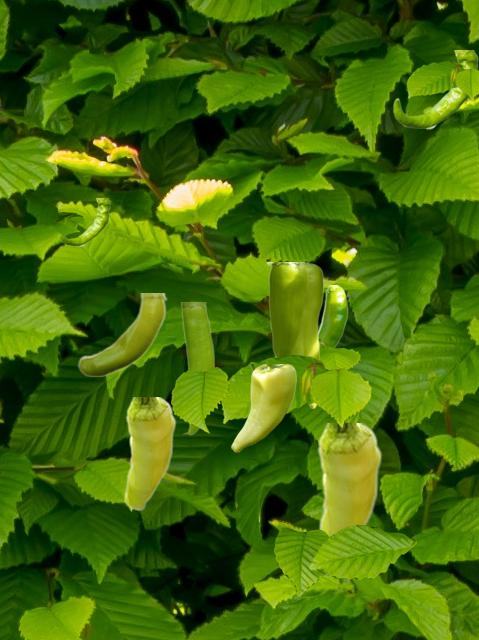green_chili: (266, 262, 322, 407), (315, 423, 381, 535), (77, 293, 166, 375), (393, 50, 477, 128), (123, 397, 175, 510), (231, 364, 295, 451), (180, 302, 213, 434), (59, 198, 109, 245), (319, 285, 347, 346)
